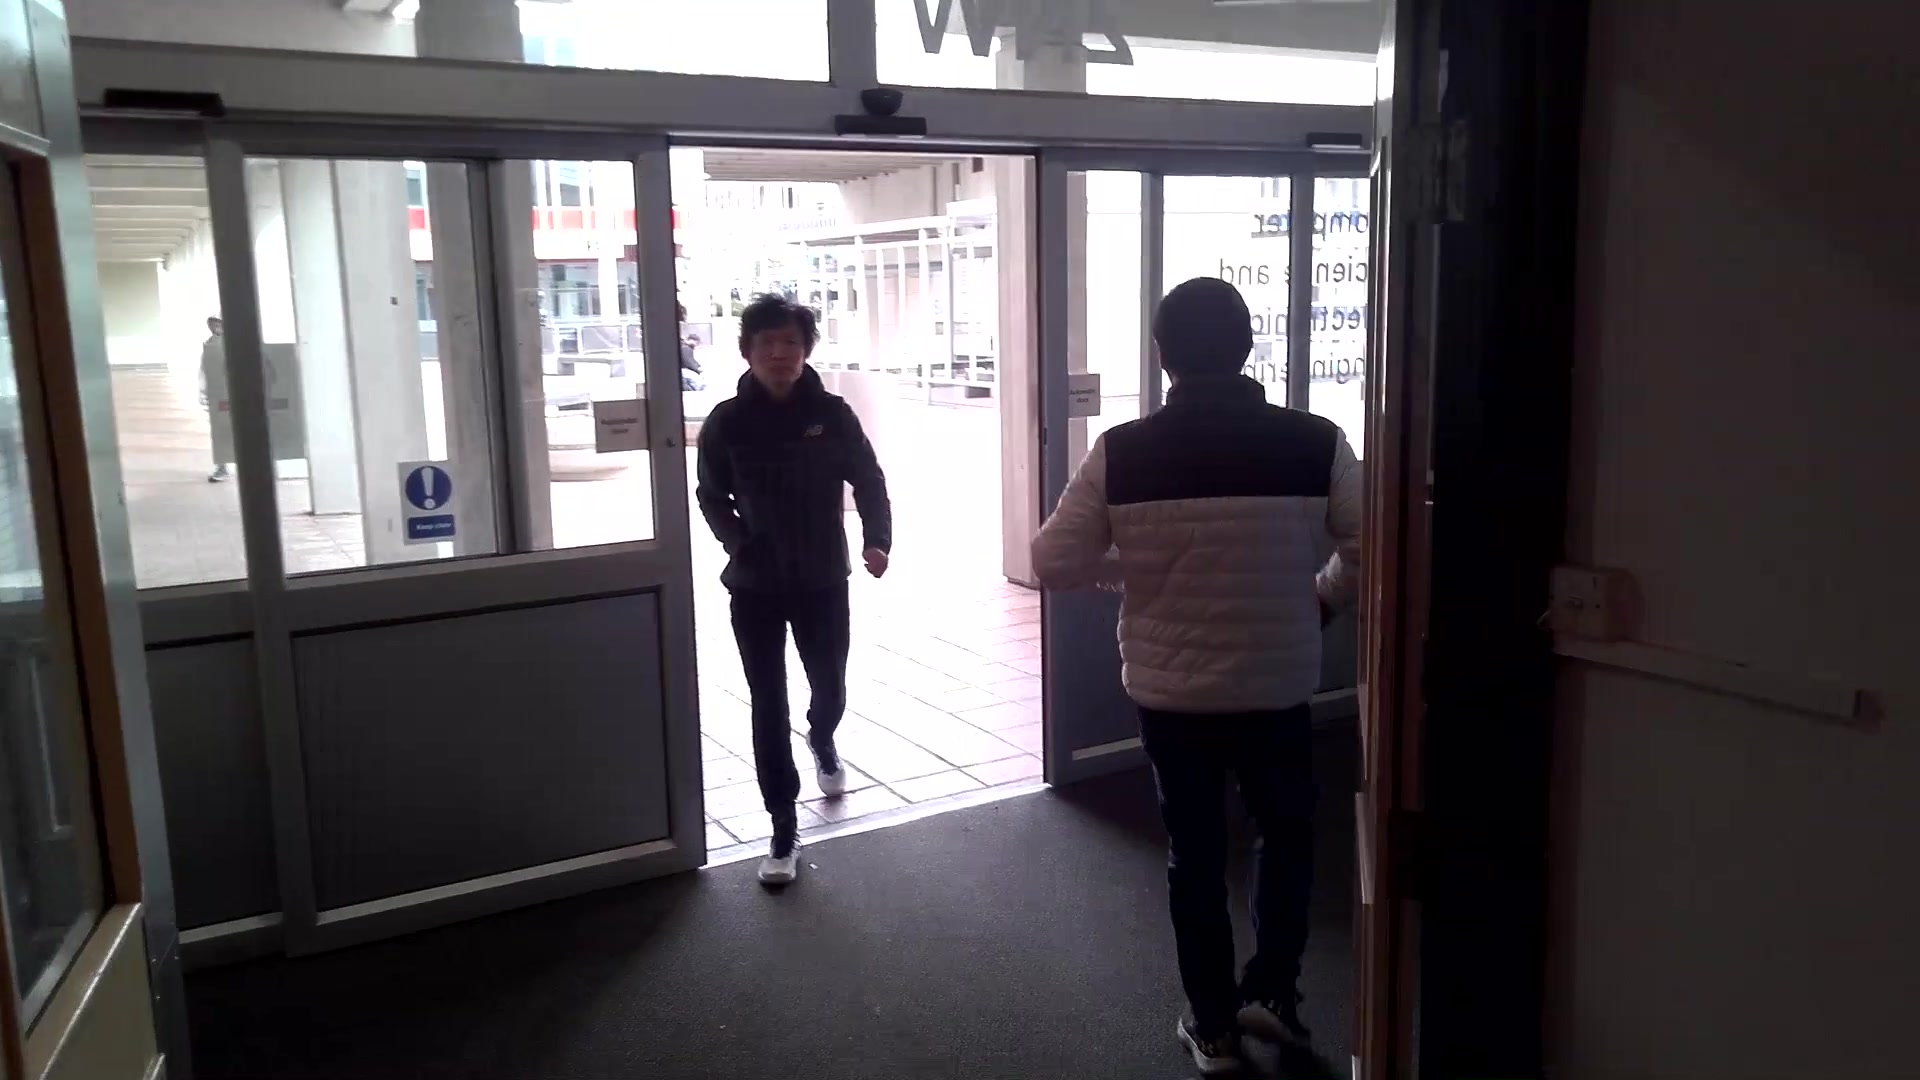Person: (1108, 275, 1356, 1080), (708, 285, 886, 890)
